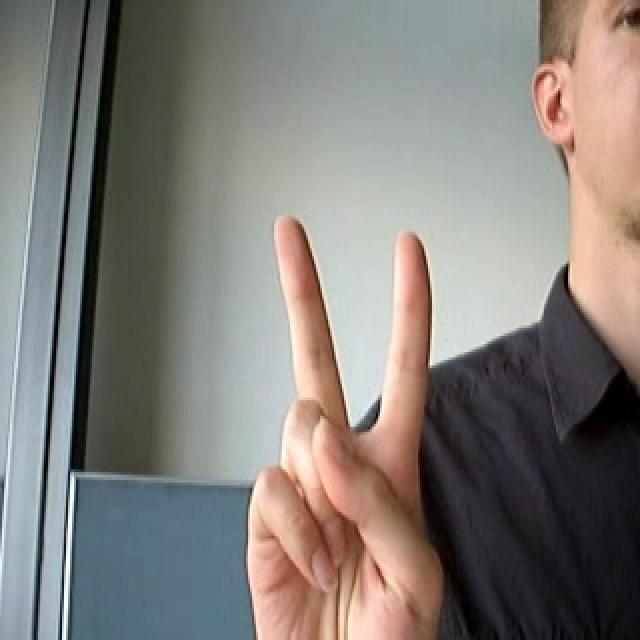V: (229, 185, 454, 640)
